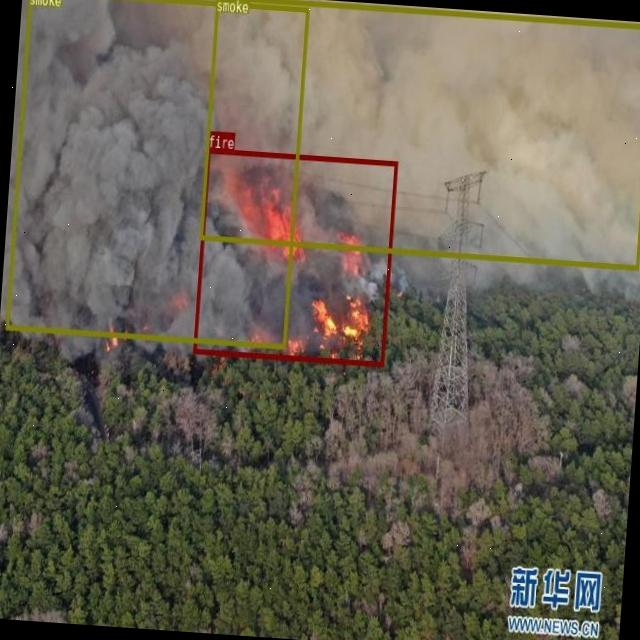fire: (192, 147, 398, 366)
smoke: (198, 0, 640, 269), (5, 0, 309, 347)
